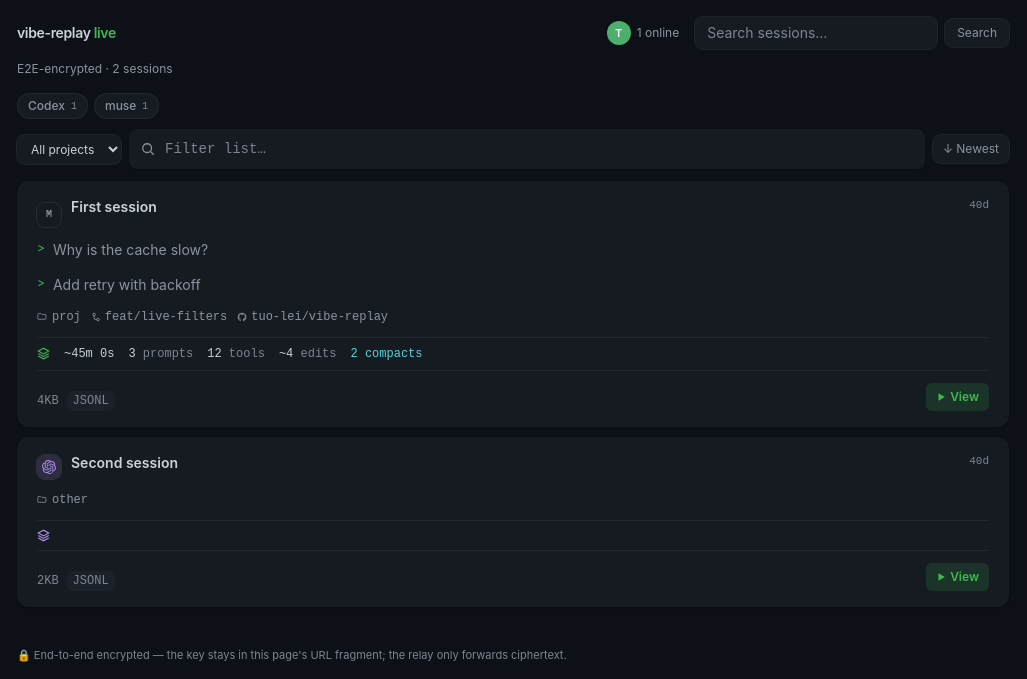
Test: LiveApp › clicking the roster clears the remembered name and shows the gate
Expected: the text "First session" is shown, [71,197,157,216]
Expected: the text "1 online" is shown, [637,25,679,41]
Click the button titled "Rename" at {"x": 645, "y": 33}, box [603,17,687,49]
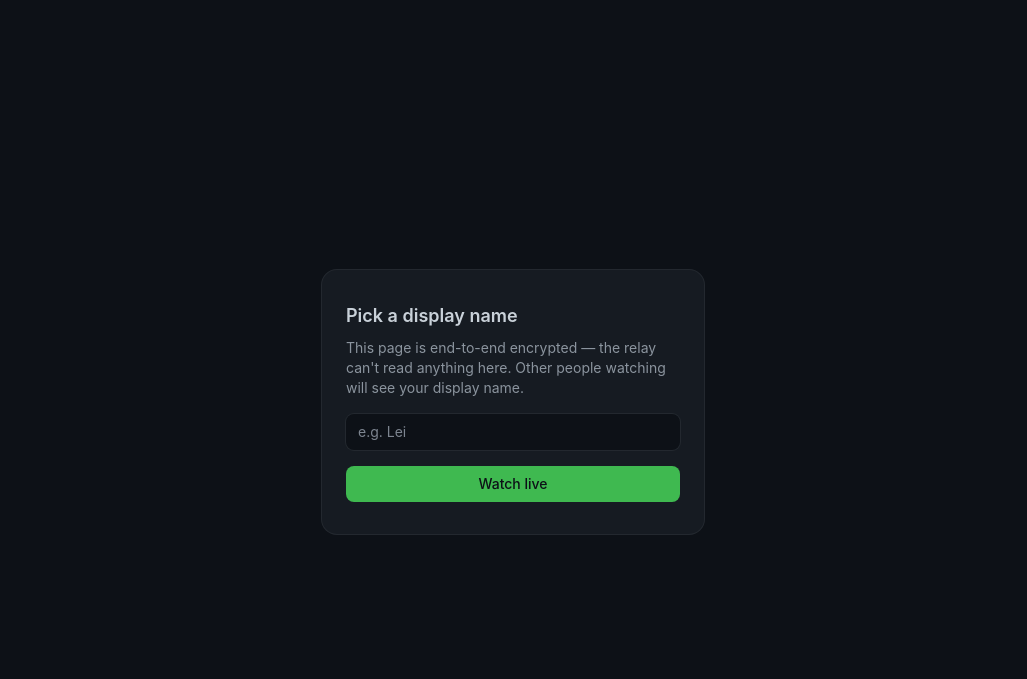
Result: the text "Pick a display name" is shown at [346,305,518,326]
